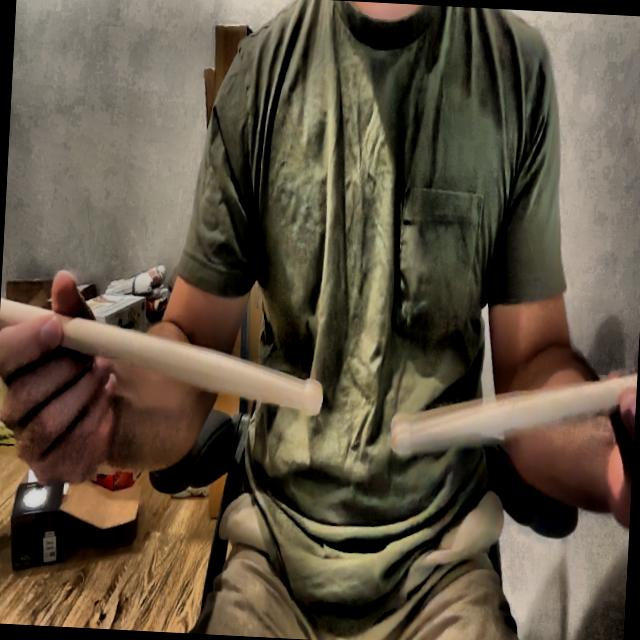Drumstick-Heads: (384, 412, 419, 458), (302, 374, 327, 422)
